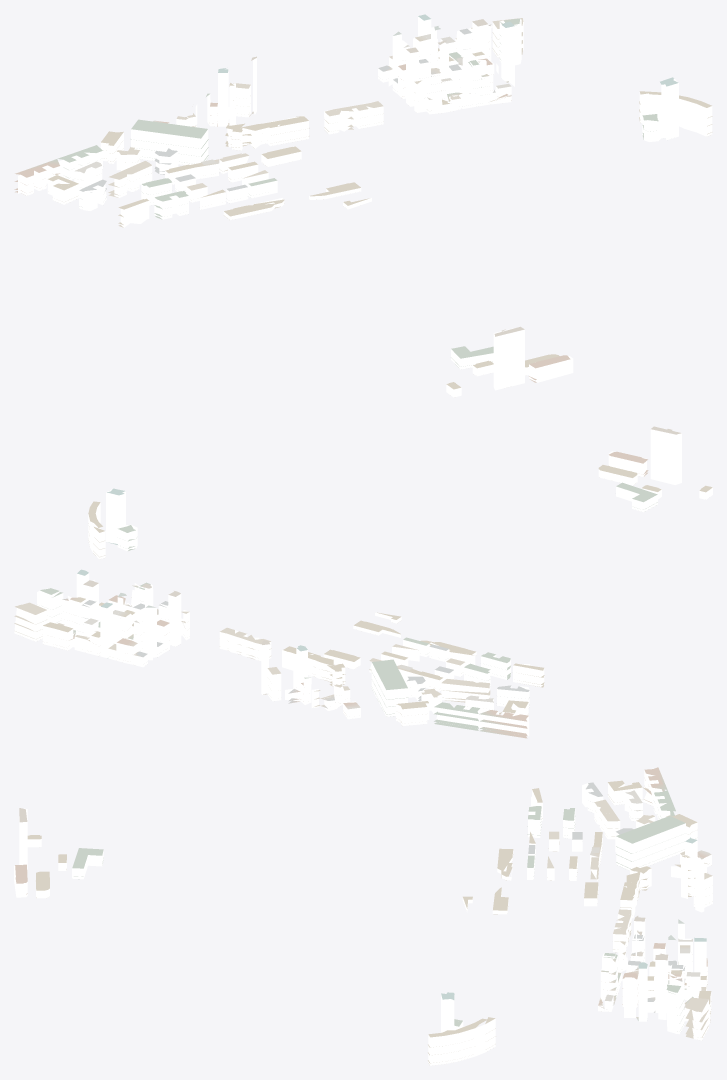
The model's file is buildings--7_3-coarse.glb.
3 views of the same model, one above another, from view 1: azimuth 30°, elevation 25°; view 2: azimuth 150°, elevation 25°; view 3: azimuth 270°, elevation 25° (orthographic). The views are drawn at different scales.
Visible parts, largest first — view 1: block_-7_3_residential, block_-7_3_roof, block_-7_3_office; view 2: block_-7_3_residential, block_-7_3_roof, block_-7_3_office; view 3: block_-7_3_residential, block_-7_3_roof, block_-7_3_office.
Boxes of the visible parts, left/top/right/bottom form: block_-7_3_residential: left=18, top=18, right=712, bottom=397; block_-7_3_roof: left=14, top=14, right=712, bottom=389; block_-7_3_office: left=218, top=16, right=678, bottom=390; block_-7_3_residential: left=14, top=451, right=712, bottom=736; block_-7_3_roof: left=14, top=426, right=712, bottom=738; block_-7_3_office: left=76, top=429, right=681, bottom=700; block_-7_3_residential: left=14, top=768, right=712, bottom=1065; block_-7_3_roof: left=15, top=767, right=712, bottom=1064; block_-7_3_office: left=19, top=808, right=706, bottom=1032.
Bounding box in the file's own units: 615 × 59.2 × 647.
